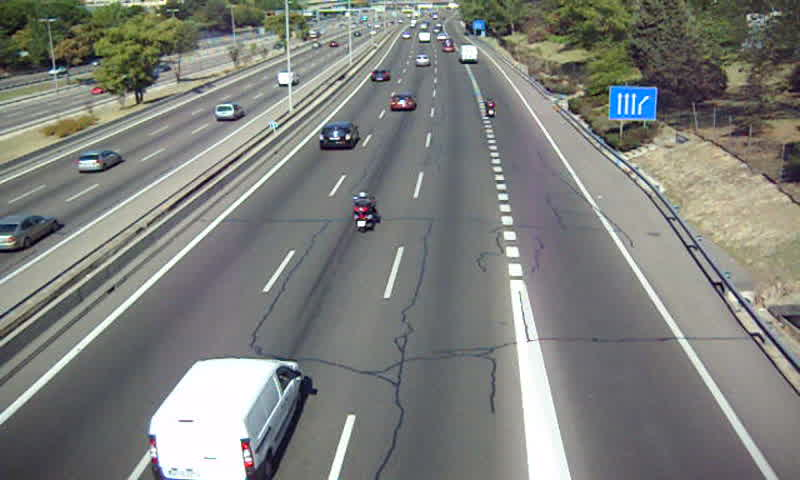car: (316, 122, 359, 149), (389, 93, 416, 110), (369, 68, 391, 81), (413, 54, 429, 67)
motorcycle: (352, 191, 378, 234), (484, 96, 495, 118)
van: (146, 359, 302, 480), (459, 44, 479, 63)
